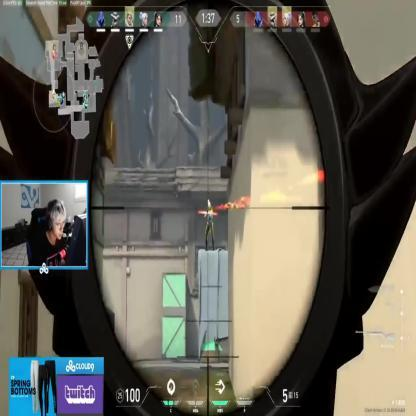enemy: (204, 200, 214, 251)
enemy_head: (208, 200, 210, 208)
